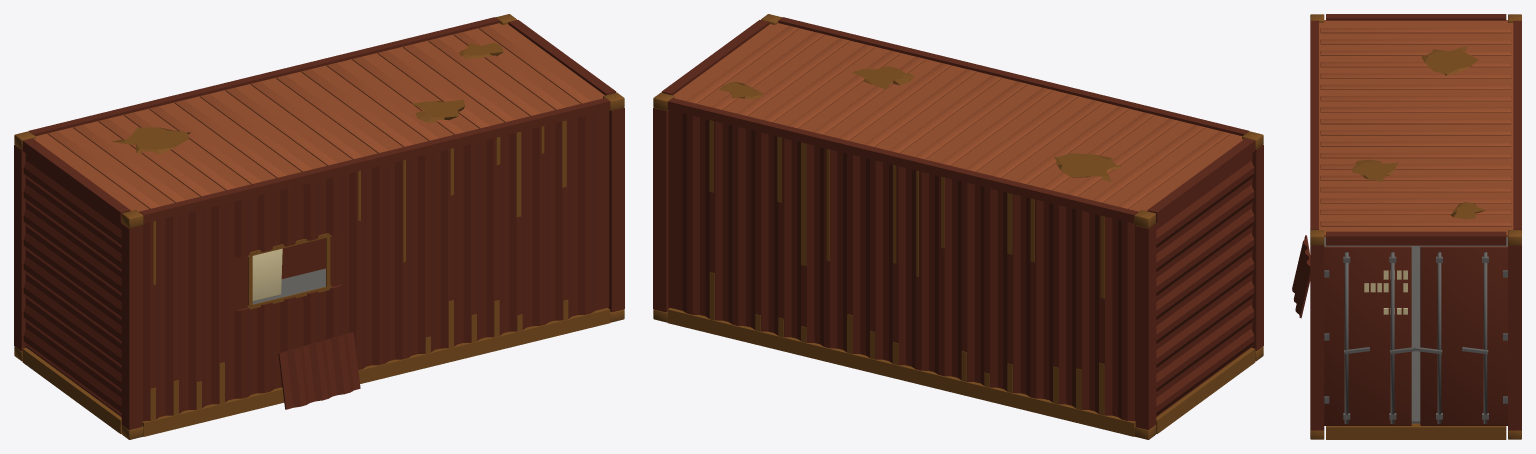
File: container.glb
3 renders of one model, left to right at view 1: azimuth 30°, elevation 25°; view 2: azimuth 150°, elevation 25°; view 3: azimuth 270°, elevation 25°, orthographic. The views are drawn at different scales.
Parts seen in each view (by area): view 1: roof, wall_-1, top_rail_-1, sill_-1, front_wall, cut_panel, post_-1_-1, top_rail_1, rib_-1_19_0, rib_-1_17_0, rib_-1_12_0, rib_-1_14_0 (+57 smaller); view 2: roof, wall_1, sill_1, top_rail_1, front_wall, post_-1_1, top_rail_-1, rib_1_19_0, rib_1_17_0, rib_1_6_0, rib_1_16_0, rib_1_7_0 (+49 smaller); view 3: roof, door_1, door_-1, post_1_-1, end_header_1, post_1_1, end_sill_1, floor, top_rail_1, top_rail_-1, end_header_-1, roof_rib_6 (+26 smaller).
Boxes of the visible parts, x1,y1,x2,y2 form: roof: (34,23,604,211); wall_-1: (142,110,609,421); top_rail_-1: (139,98,610,223); sill_-1: (142,308,610,436); front_wall: (25,153,121,416); cut_panel: (278,332,360,409); post_-1_-1: (121,223,142,430); top_rail_1: (29,17,499,136); rib_-1_19_0: (578,113,595,314); rib_-1_17_0: (532,125,549,326); rib_-1_12_0: (417,152,434,353); rib_-1_14_0: (463,141,480,342); roof: (673,23,1243,211); wall_1: (668,110,1135,421); sill_1: (667,308,1135,436); top_rail_1: (667,98,1138,223); front_wall: (1156,153,1252,416); post_-1_1: (1135,223,1156,430); top_rail_-1: (778,17,1248,136); rib_1_19_0: (682,113,699,314); rib_1_17_0: (728,125,745,326); rib_1_6_0: (980,186,997,387); rib_1_16_0: (751,130,768,331); rib_1_7_0: (957,181,974,381); roof: (1319,20,1513,237); door_1: (1420,246,1507,425); door_-1: (1324,246,1411,425); post_1_-1: (1310,245,1324,430); end_header_1: (1326,231,1506,245); post_1_1: (1508,245,1521,430); end_sill_1: (1326,423,1506,439); floor: (1324,237,1507,423); top_rail_1: (1513,20,1521,230); top_rail_-1: (1310,20,1318,229); end_header_-1: (1326,14,1506,20); roof_rib_6: (1320,96,1511,101).
Bounding box in the file's own units: 6.11 × 2.59 × 2.65.
